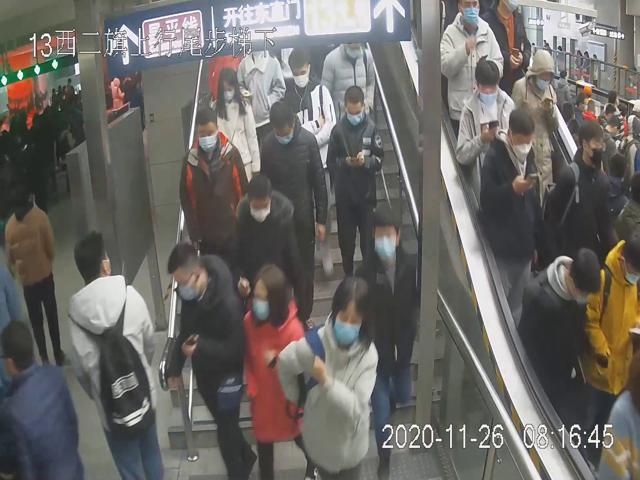person: (279, 272, 378, 476), (164, 240, 248, 479), (349, 207, 419, 469), (243, 264, 314, 480), (474, 108, 540, 321), (178, 105, 251, 288), (227, 172, 313, 319), (328, 85, 385, 282), (261, 98, 328, 264), (546, 119, 616, 273), (437, 1, 507, 136), (454, 57, 516, 207), (281, 43, 337, 174), (208, 70, 261, 192)
